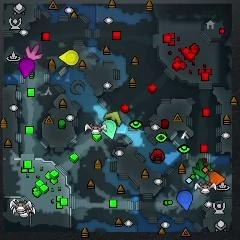p1: (177, 190, 193, 212)
p2: (100, 120, 117, 140)
p3: (18, 57, 36, 79)
p4: (59, 50, 79, 66)
p5: (207, 171, 226, 188)
x1: (25, 43, 44, 61)
x2: (104, 110, 122, 125)
x3: (196, 171, 209, 182)
x4: (193, 159, 211, 178)
